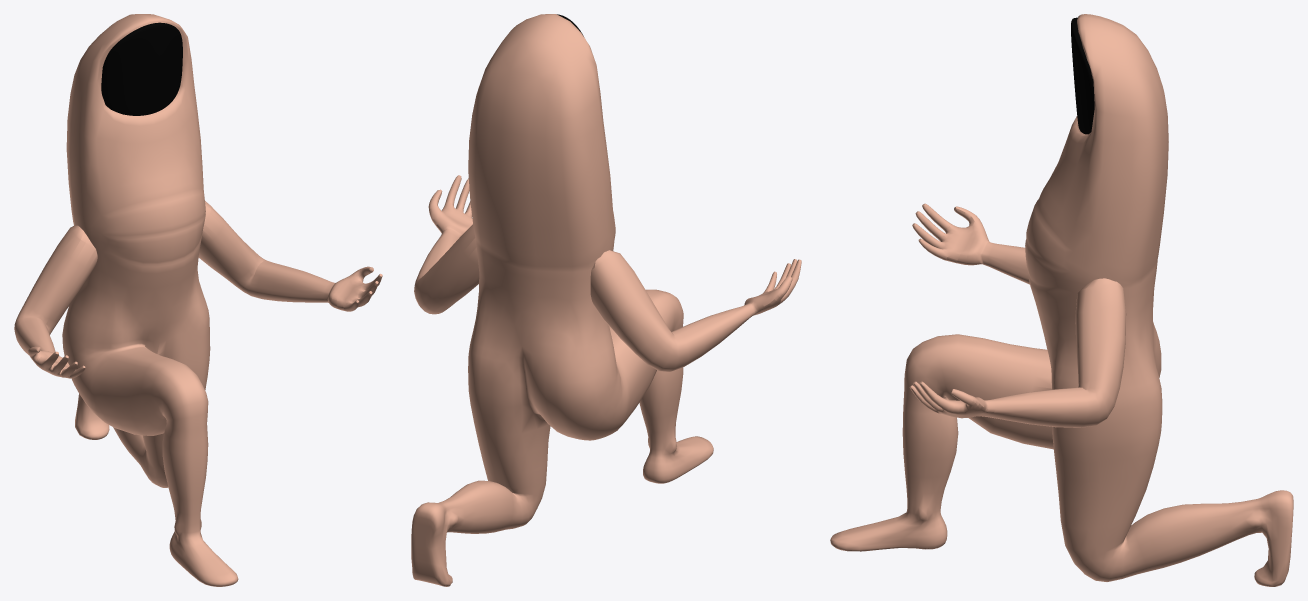
Rendered from Thumbman.glb.
3 views of the same model, side by side, from view 1: azimuth 30°, elevation 25°; view 2: azimuth 150°, elevation 25°; view 3: azimuth 270°, elevation 25° (orthographic). The views are drawn at different scales.
Parts seen in each view (by area): view 1: Layer_1_copy, Layer_3_copy, Subdivision Surface - baked, Layer_3_copy 1; view 2: Layer_1_copy, Layer_3_copy 1, Layer_3_copy; view 3: Layer_1_copy, Layer_3_copy, Layer_3_copy 1, Subdivision Surface - baked.
Boxes of the visible parts, x1,y1,x2,y2 form: Layer_1_copy: [62, 14, 238, 586]; Layer_3_copy: [198, 201, 382, 311]; Subdivision Surface - baked: [101, 22, 182, 115]; Layer_3_copy 1: [14, 225, 97, 378]; Layer_1_copy: [411, 14, 713, 586]; Layer_3_copy 1: [590, 250, 801, 371]; Layer_3_copy: [414, 175, 479, 314]; Layer_1_copy: [830, 14, 1293, 586]; Layer_3_copy: [909, 278, 1126, 427]; Layer_3_copy 1: [912, 203, 1029, 284]; Subdivision Surface - baked: [1071, 17, 1094, 134].
Bounding box in the file's own units: 0.2527 × 0.3461 × 0.2651.
